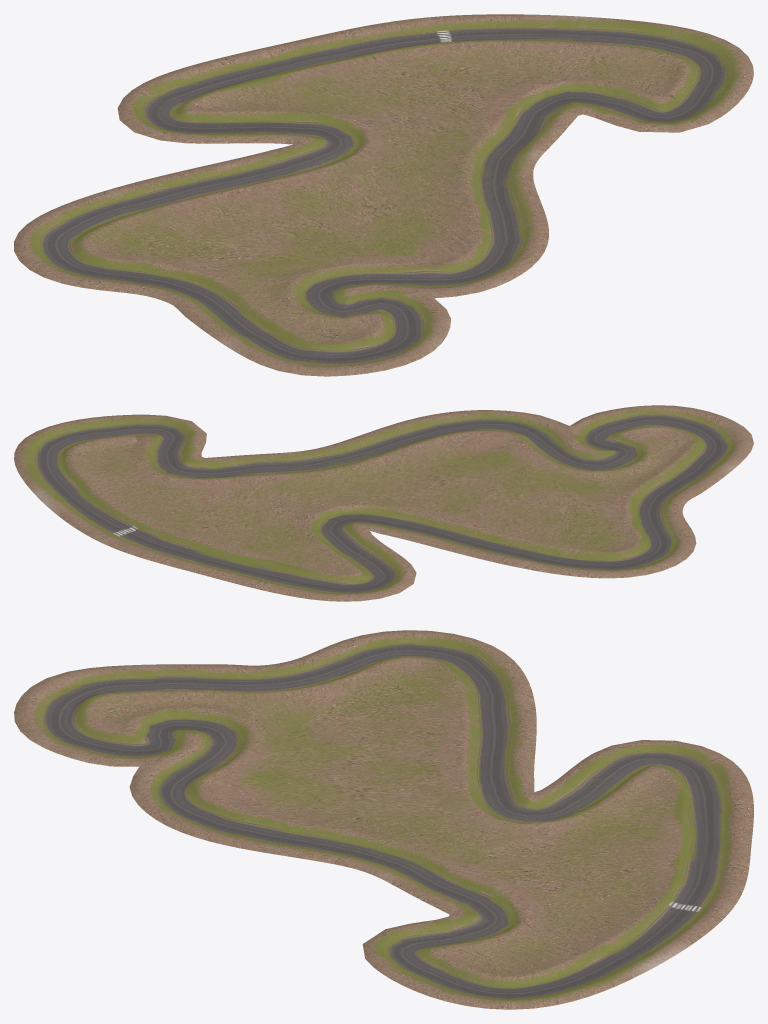
File: Circuit.obj
3 renders of one model, top to bottom at view 1: azimuth 30°, elevation 25°; view 2: azimuth 150°, elevation 25°; view 3: azimuth 270°, elevation 25°, orthographic. The views are drawn at different scales.
Visible parts, largest first — view 1: nurbsToPoly1; view 2: nurbsToPoly1; view 3: nurbsToPoly1.
Boxes of the visible parts, x1,y1,x2,y2 form: nurbsToPoly1: (14, 14, 753, 376); nurbsToPoly1: (14, 405, 753, 601); nurbsToPoly1: (14, 630, 753, 1009).
Bounding box in the file's own units: 645 × 3.83 × 531.
1 material, 1 textured.
